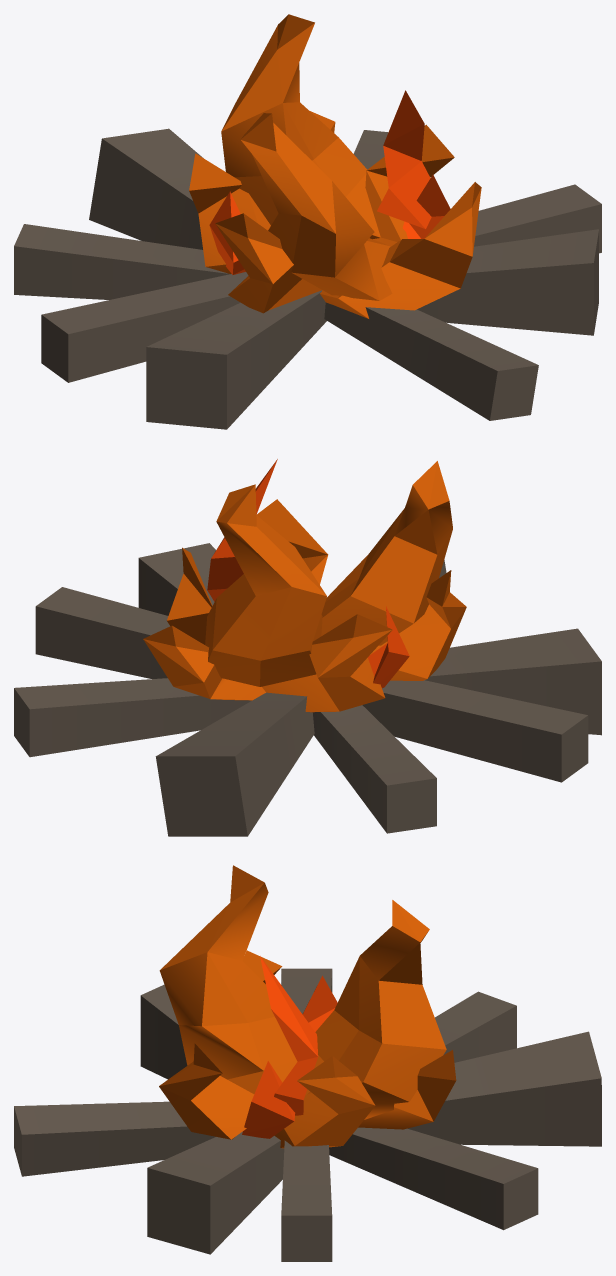
The model's file is Campfire_02.fbx.
3 renders of one model, top to bottom at view 1: azimuth 30°, elevation 25°; view 2: azimuth 150°, elevation 25°; view 3: azimuth 270°, elevation 25°, orthographic. The views are drawn at different scales.
Visible parts, largest first — view 1: pCube5483; view 2: pCube5483; view 3: pCube5483.
Boxes of the visible parts, x1,y1,x2,y2 form: pCube5483: (14,14,601,429); pCube5483: (14,459,601,836); pCube5483: (14,865,601,1261).
Size of the model in its own units: 1 by 0.4859 by 1.01.
